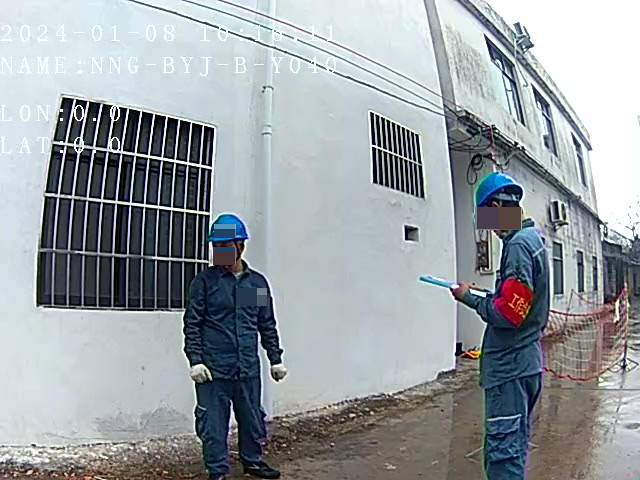badge: (493, 278, 535, 327)
downsuit: (197, 380, 265, 477), (478, 374, 539, 474)
halt: (474, 171, 526, 234), (207, 213, 252, 270)
hand: (450, 280, 470, 302)
inear: (484, 198, 510, 225)
person: (453, 170, 556, 480), (183, 212, 284, 480)
upsuit: (476, 224, 551, 367), (184, 265, 278, 363)
wglove: (187, 364, 211, 383), (270, 363, 293, 380)
